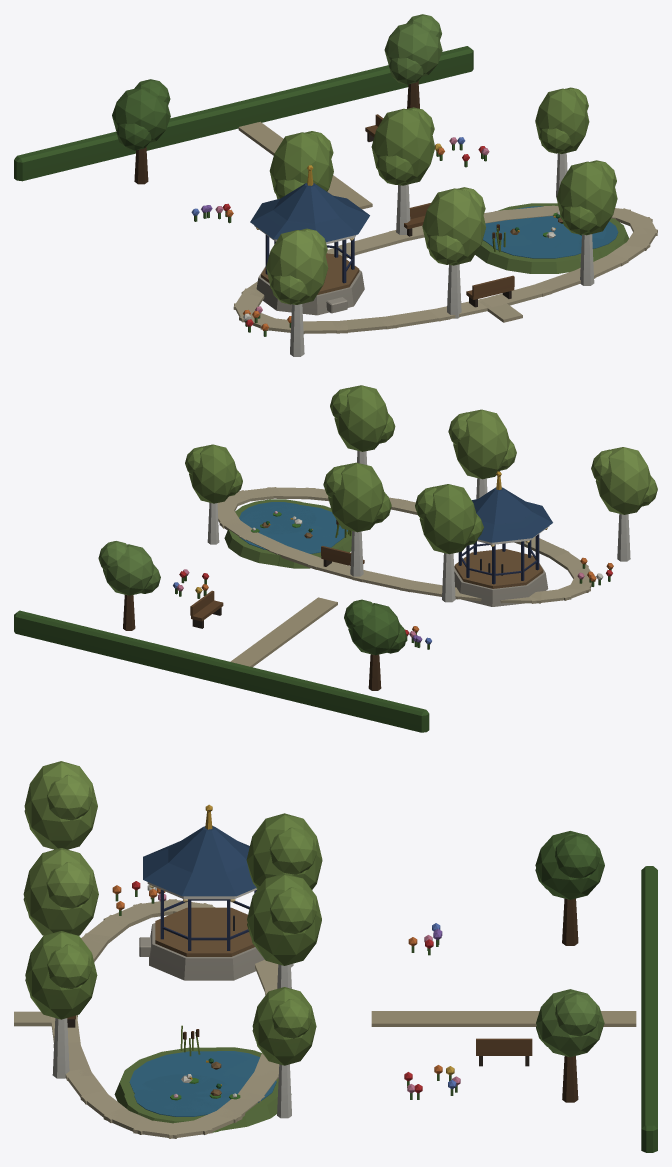
Rendered from park.glb.
The picture shows the model from 3 angles, top to bottom: view 1: azimuth 30°, elevation 25°; view 2: azimuth 150°, elevation 25°; view 3: azimuth 270°, elevation 25°; orthographic projection. The views are drawn at different scales.
Parts seen in each view (by area): view 1: park_model; view 2: park_model; view 3: park_model.
Boxes of the visible parts, bbox=[...] form: park_model: bbox=[14, 14, 657, 356]; park_model: bbox=[14, 385, 657, 732]; park_model: bbox=[14, 761, 657, 1152].
Size of the model in its own units: 1.88 by 0.5324 by 1.94.
